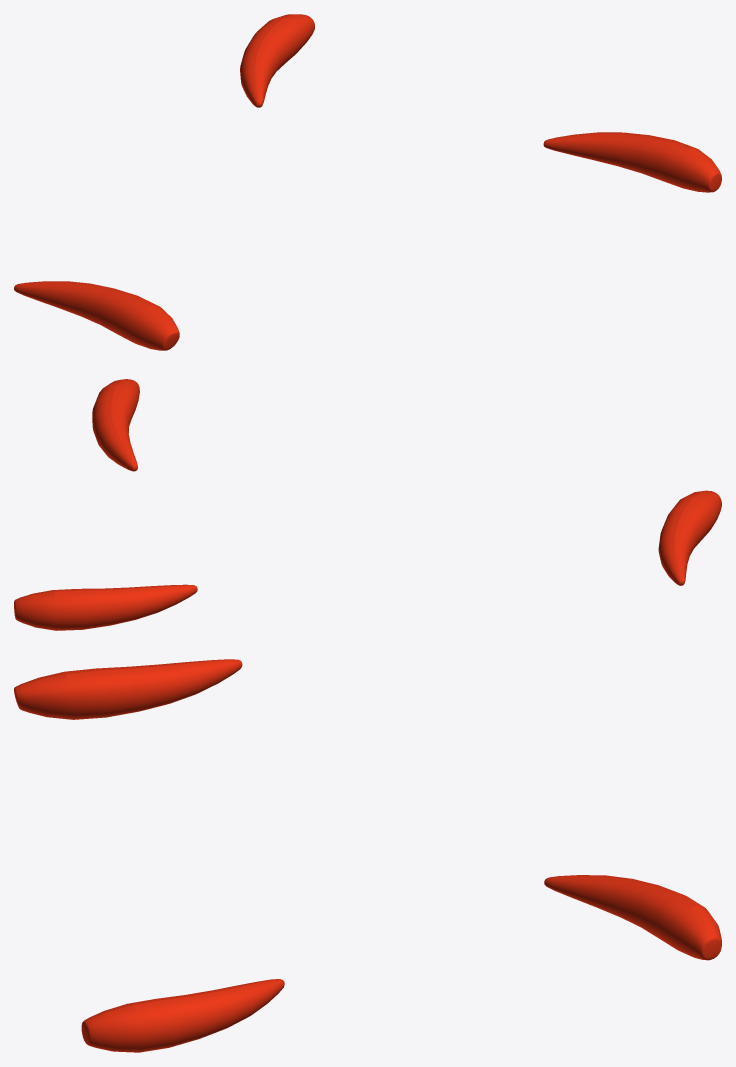
Rendered from Cabe.fbx.
3 views of the same model, one above another, from view 1: azimuth 30°, elevation 25°; view 2: azimuth 150°, elevation 25°; view 3: azimuth 270°, elevation 25° (orthographic). The views are drawn at different scales.
Visible parts, largest first — view 1: gabus pucung.003; view 2: gabus pucung.003; view 3: gabus pucung.003.
Boxes of the visible parts, <box> form: gabus pucung.003: <box>14,14,721,350</box>; gabus pucung.003: <box>14,379,721,630</box>; gabus pucung.003: <box>14,659,721,1052</box>.
Size of the model in its own units: 164 by 9.81 by 130.
